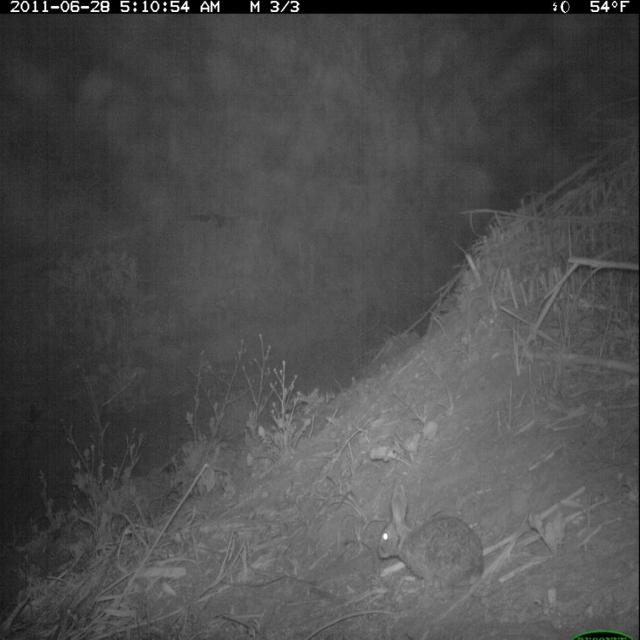rabbit: (376, 475, 492, 598)
